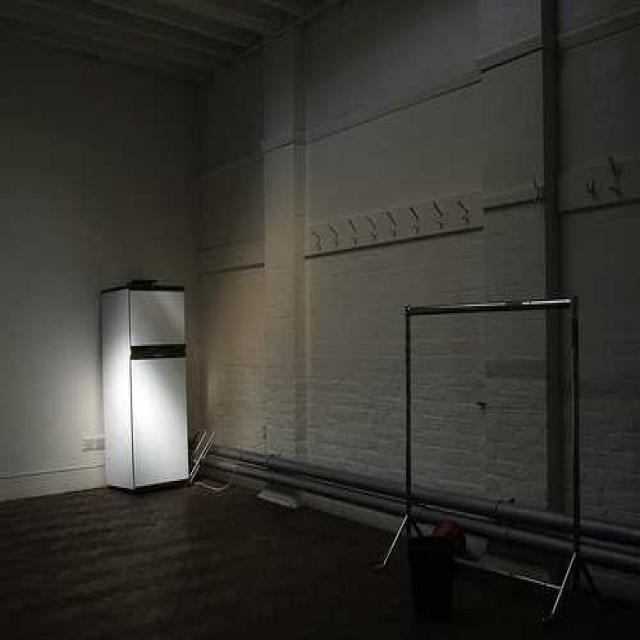refrigerator: (128, 279, 192, 489)
